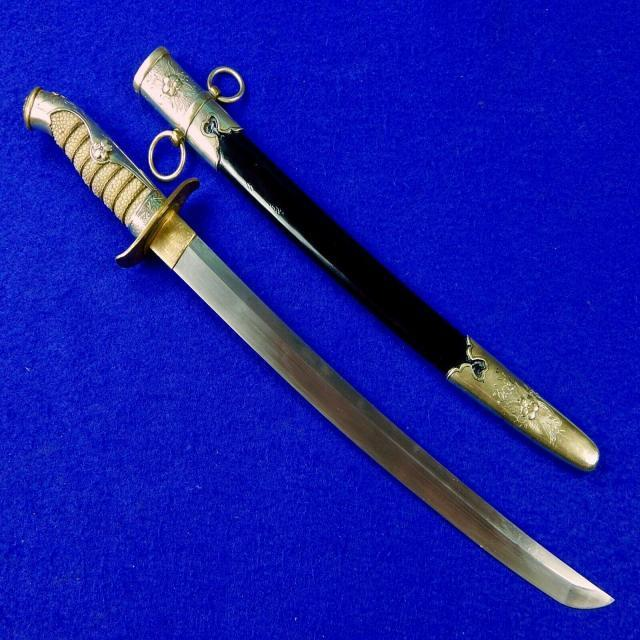short sword: (19, 27, 622, 626)
